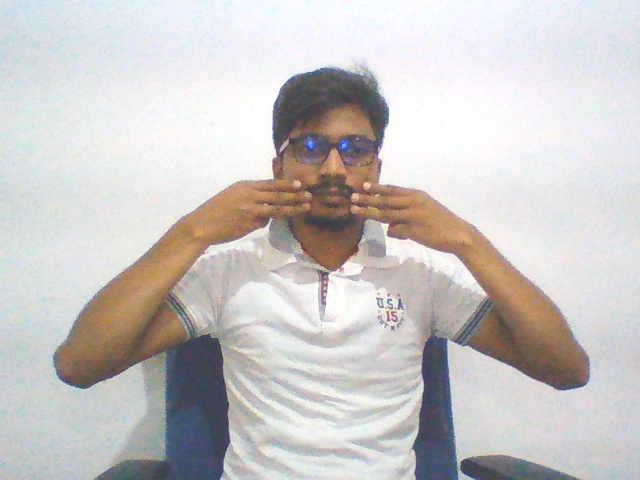cat: (181, 167, 481, 261)
